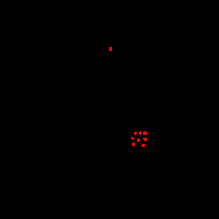Target: (143, 131, 148, 135), (143, 137, 147, 141), (109, 47, 112, 51), (139, 131, 142, 135), (137, 138, 140, 142), (132, 142, 135, 146), (141, 144, 145, 147), (134, 132, 137, 135), (131, 137, 134, 140)
